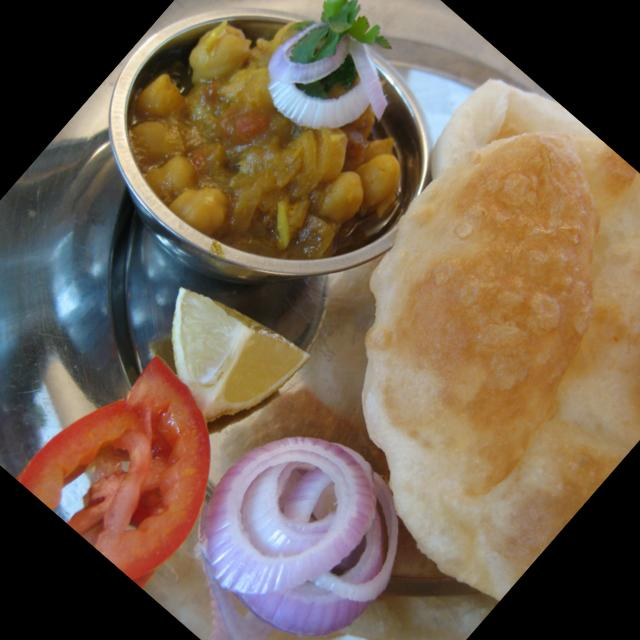Bhatura: (221, 56, 640, 613)
Chole: (98, 0, 480, 314)
